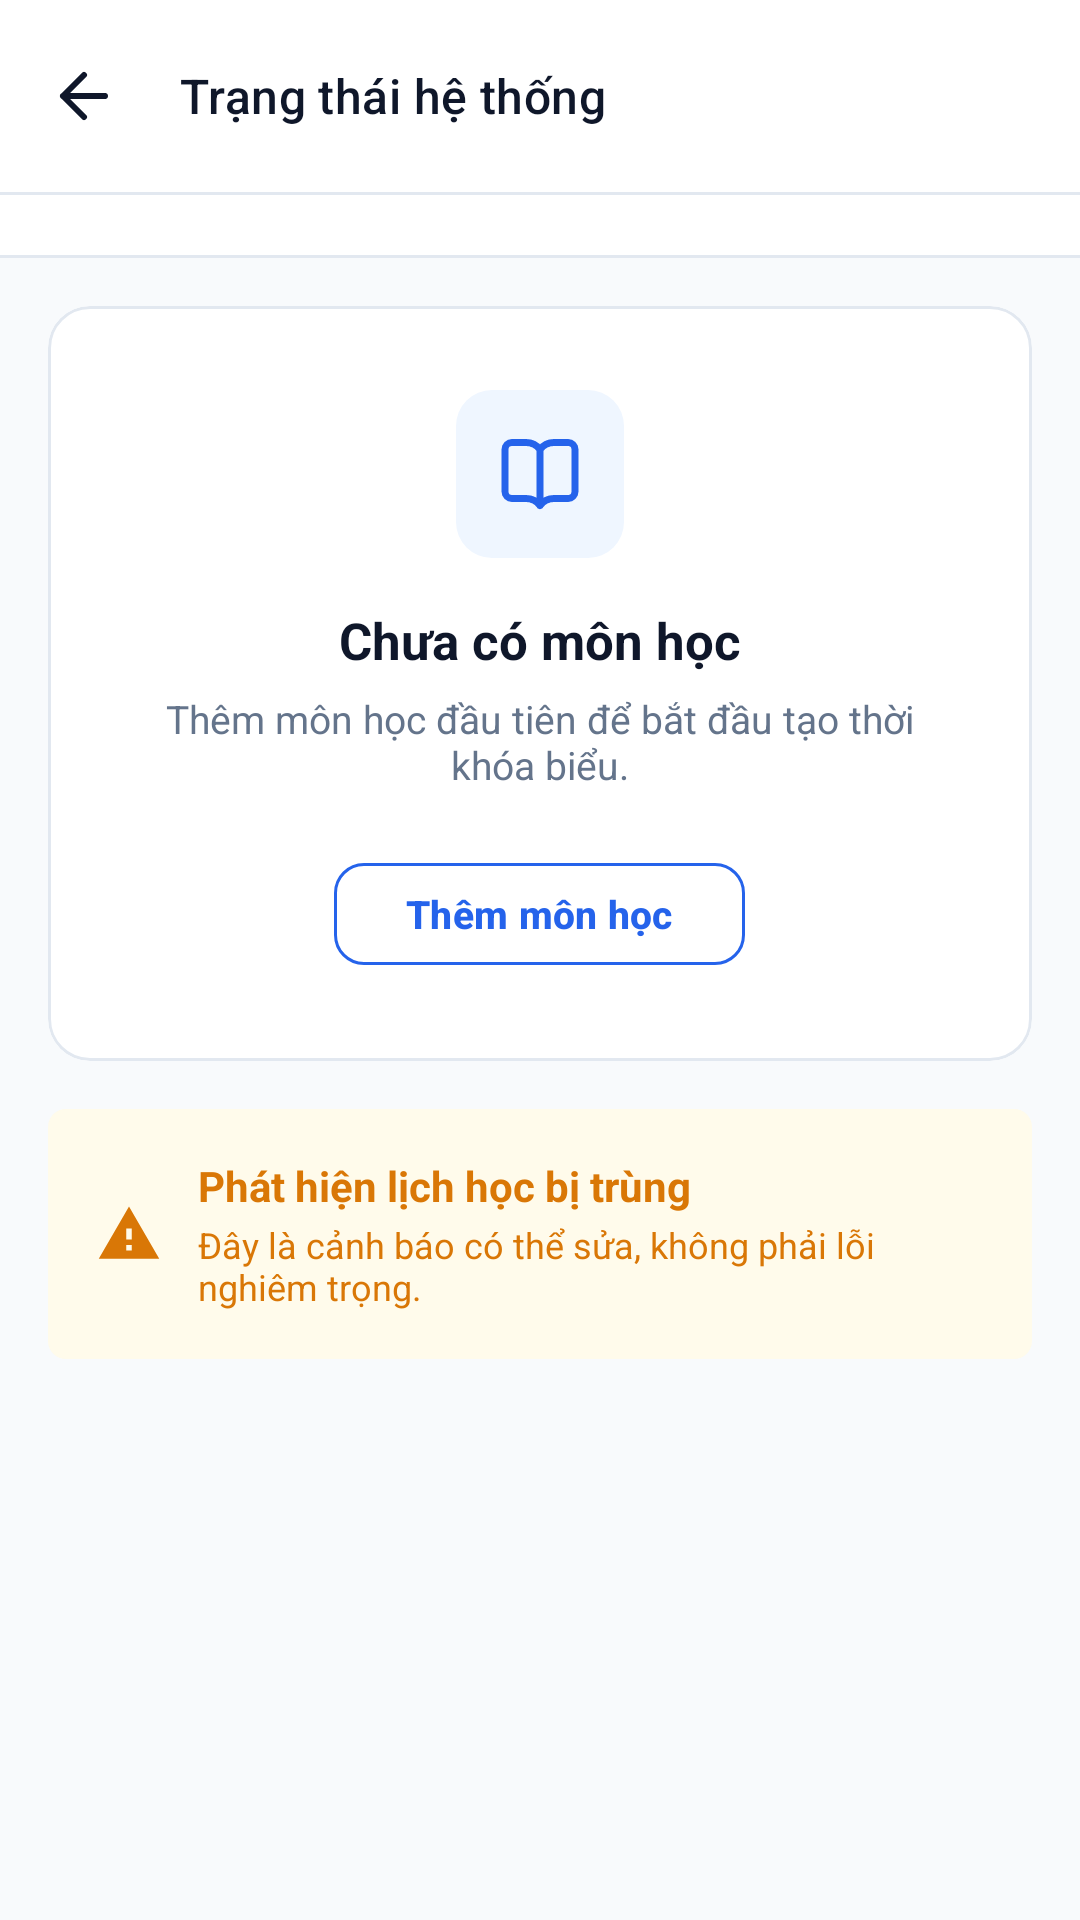

Icons on this 1080*1920 Android screen, each with its box as (x1, y1, x2, y2):
book: (501, 439, 579, 510)
warning: (99, 1207, 159, 1259)
